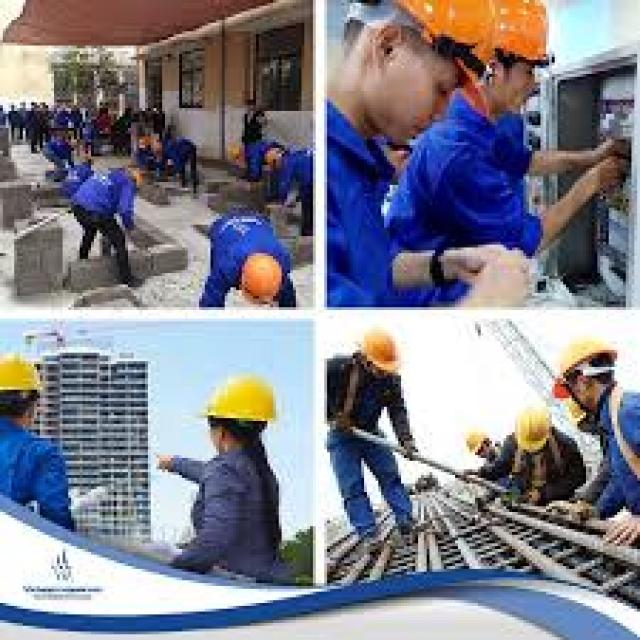Reflective-Jacket: (589, 384, 640, 486)
Safety-Helmet: (358, 0, 564, 74), (199, 367, 282, 427), (549, 324, 623, 387), (350, 316, 412, 378), (506, 395, 560, 455), (238, 248, 285, 316), (0, 347, 48, 404), (455, 421, 495, 458)
